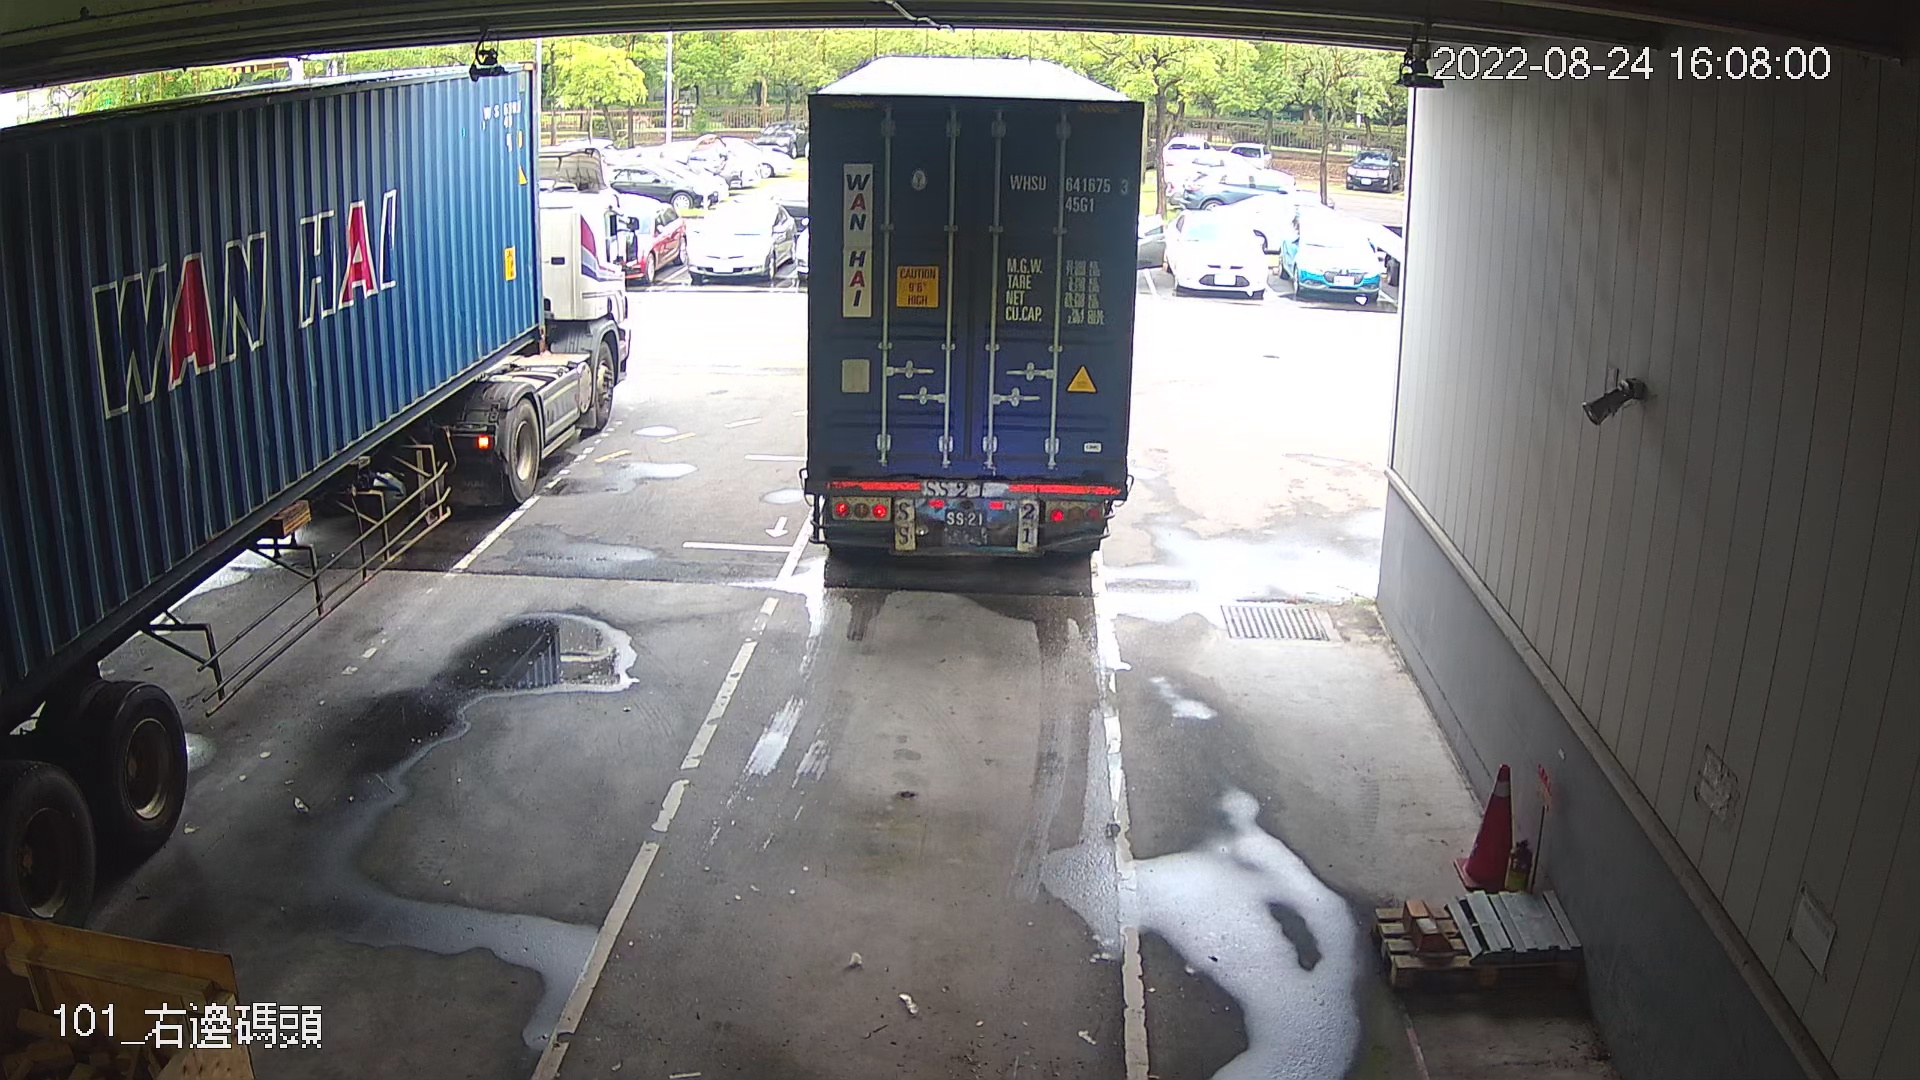container: (1004, 164, 1134, 222)
